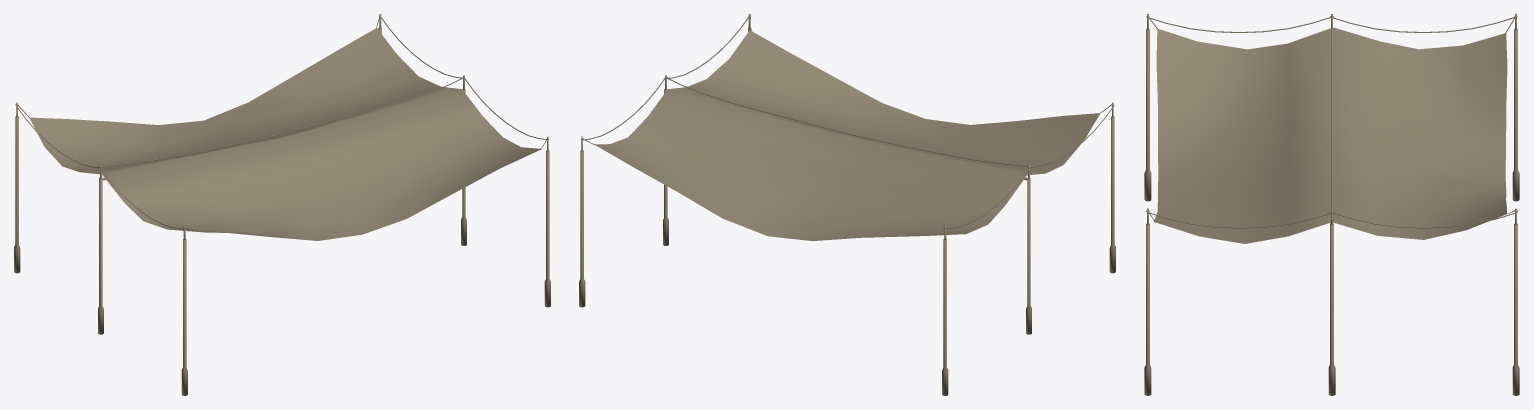
File: savHubTent4.fbx
3 renders of one model, left to right at view 1: azimuth 30°, elevation 25°; view 2: azimuth 150°, elevation 25°; view 3: azimuth 270°, elevation 25°, orthographic. The views are drawn at different scales.
Parts seen in each view (by area): view 1: savHubTent4_LOD0; view 2: savHubTent4_LOD0; view 3: savHubTent4_LOD0.
Boxes of the visible parts, x1,y1,x2,y2 form: savHubTent4_LOD0: (14, 14, 550, 395); savHubTent4_LOD0: (579, 14, 1115, 395); savHubTent4_LOD0: (1144, 14, 1519, 395).
Size of what is drawn, in the model's own units: 1179 by 517 by 946.
